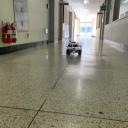cart: (66, 42, 82, 55)
